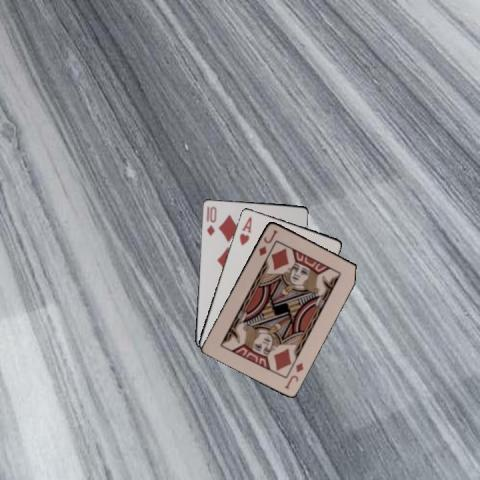10d: (204, 203, 218, 237)
Ah: (236, 213, 253, 247)
Jd: (281, 359, 305, 390), (256, 227, 279, 256)
